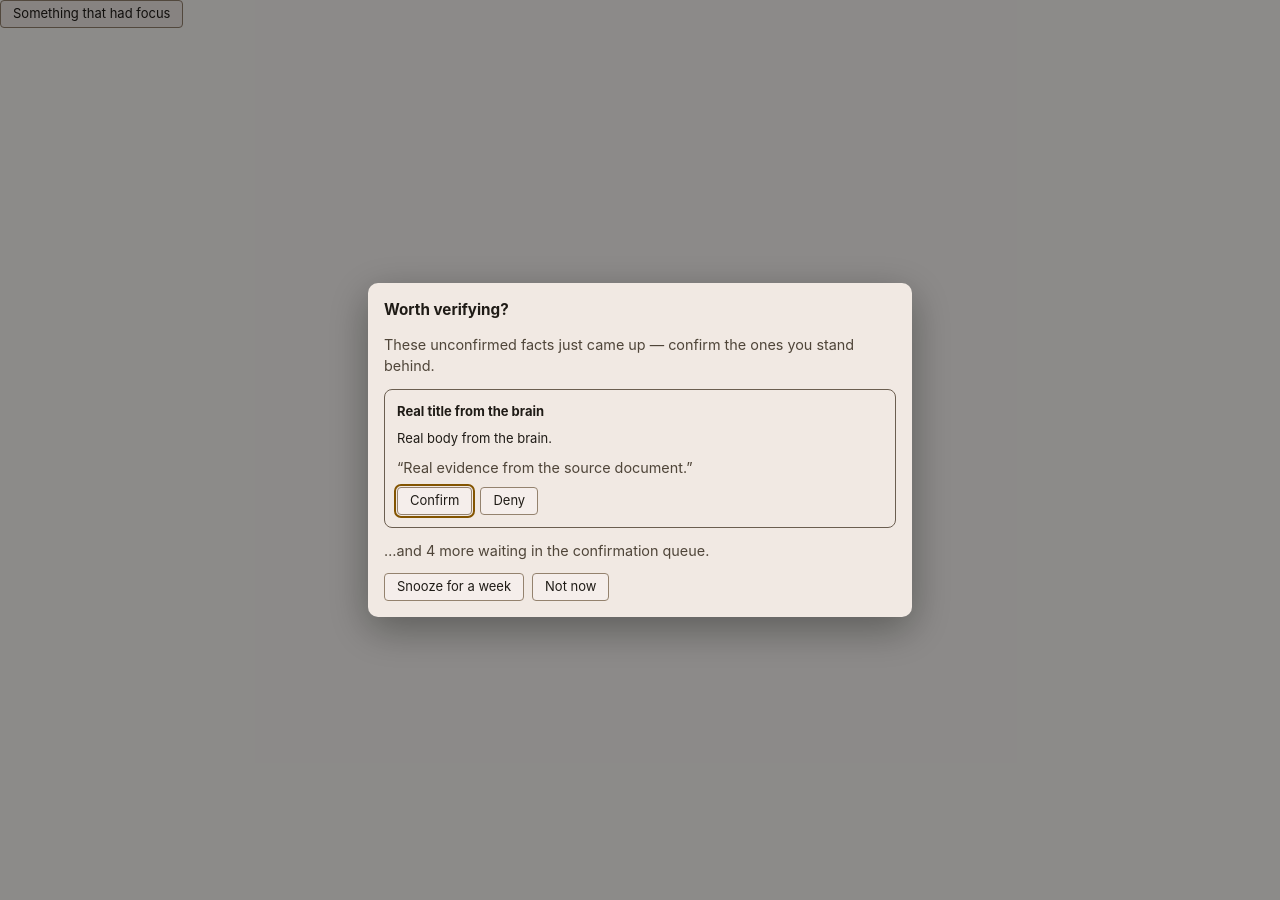
Test case: on close, focus returns to the previously focused element
The image size is (1280, 900).
Expected: the text "Real body from the brain." is shown, [397,430,552,446]
Click the button "Not now" at (571, 587), box [532,573,610,601]
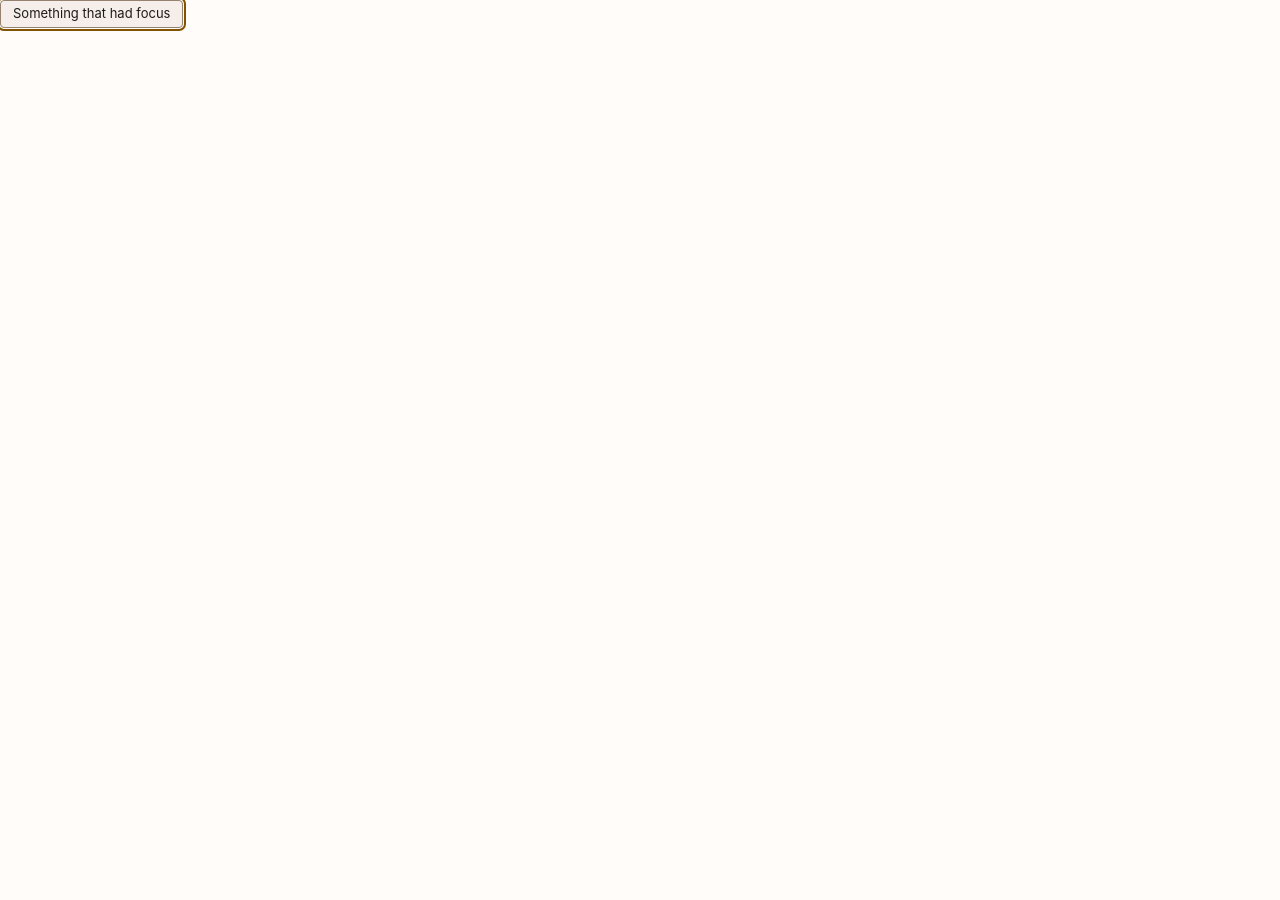
Now the dialog is gone
